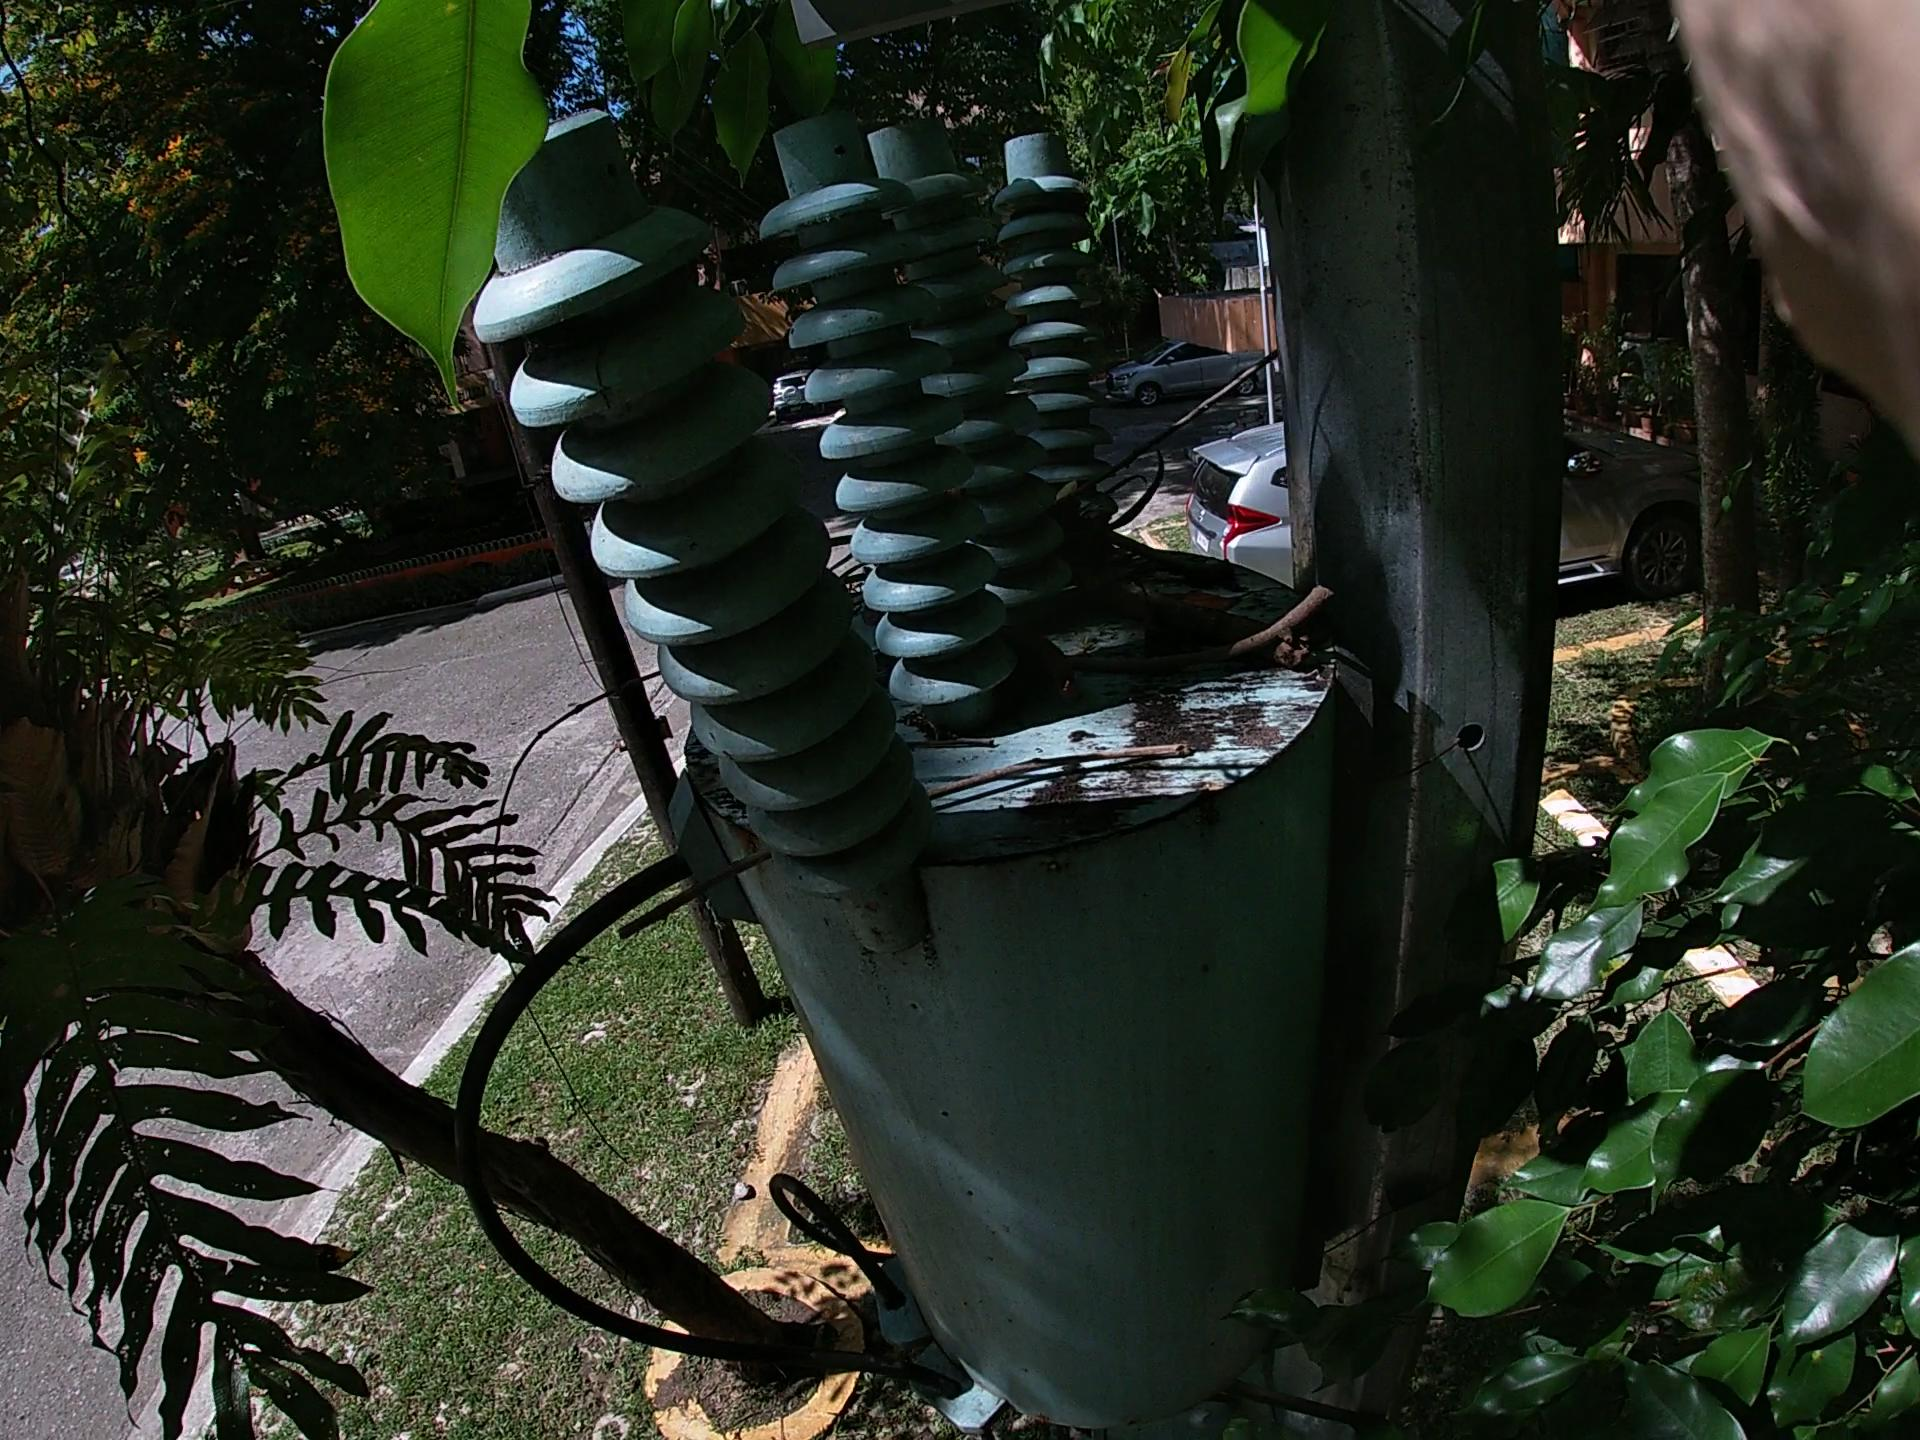branch with leaves: (962, 470, 1349, 740)
leaf: (1128, 582, 1259, 691)
tree branch: (525, 693, 1234, 997), (821, 333, 1305, 622), (1061, 557, 1492, 729)
